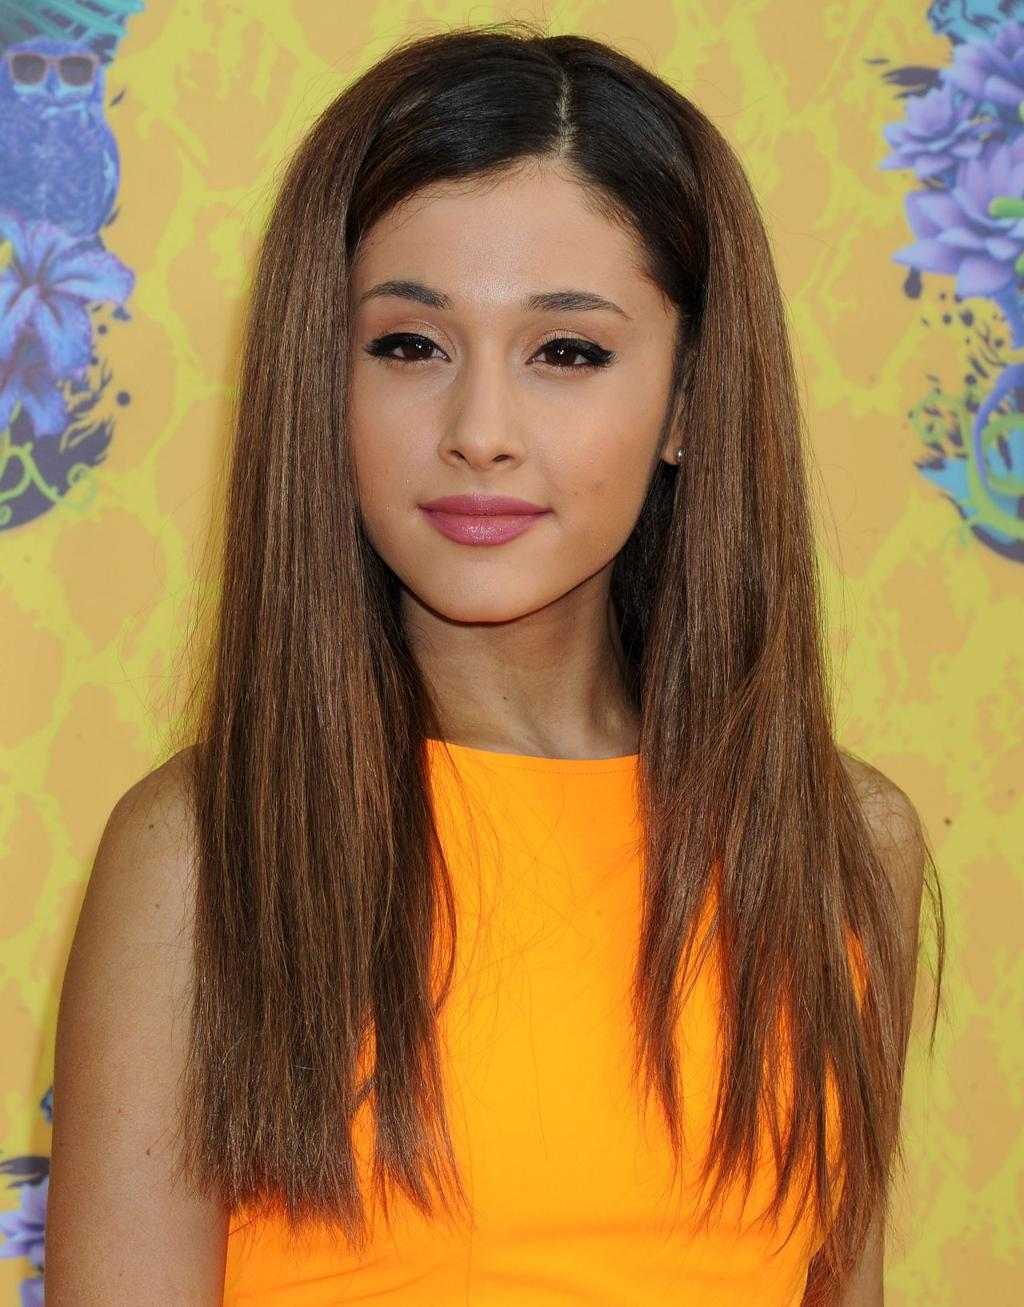face: (329, 153, 681, 620)
